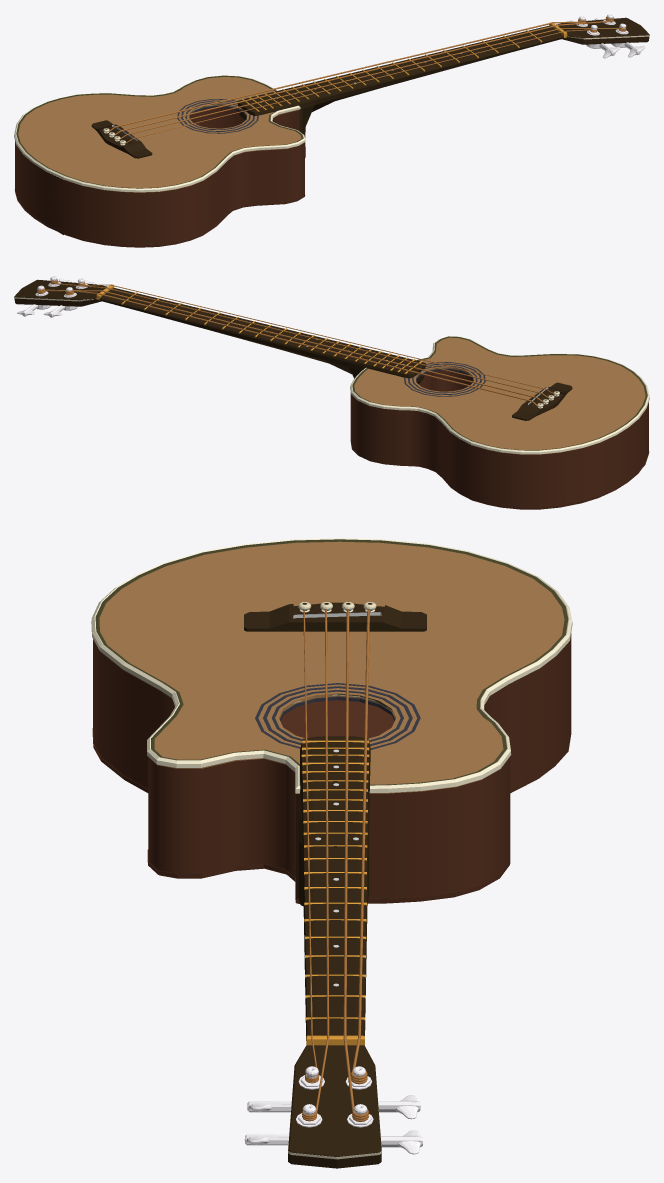
File: acousticBass.glb
The picture shows the model from 3 angles, top to bottom: view 1: azimuth 30°, elevation 25°; view 2: azimuth 150°, elevation 25°; view 3: azimuth 270°, elevation 25°; orthographic projection. The views are drawn at different scales.
Parts seen in each view (by area): view 1: Plane.002, Plane.001, Cube.002, Plane.004, Cube.003, Plane.006, Cylinder.011, Cylinder, Cube.005, Plane.003, Cylinder.026, Cylinder.003 (+3 smaller); view 2: Plane.002, Plane.001, Cube.002, Plane.004, Cube.003, Plane.006, Cylinder.011, Cylinder, Cube.005, Cylinder.026, Cylinder.003, Plane.003 (+3 smaller); view 3: Plane.002, Plane.001, Cube.002, Cube.003, Plane.004, Plane.003, Cube.005, Plane.006, Cylinder.003, Cylinder.004, Cylinder.011, Cylinder (+4 smaller).
Part boxes in pixels (x1,y1,x2,y2): Plane.002: (18,77,302,192); Plane.001: (15,107,304,245); Cube.002: (237,25,564,157); Plane.004: (14,75,305,192); Cube.003: (556,17,649,44); Plane.006: (16,75,303,188); Cylinder.011: (114,21,611,135); Cylinder: (109,21,583,131); Cube.005: (91,120,152,158); Plane.003: (14,189,305,247); Cylinder.026: (120,28,618,139); Cylinder.003: (177,99,258,133); Plane.002: (354,337,645,454); Plane.001: (350,370,648,507); Cube.002: (98,288,425,384); Plane.004: (350,336,649,454); Cube.003: (14,279,107,306); Plane.006: (352,336,647,450); Cylinder.011: (45,289,543,402); Cylinder: (73,290,537,406); Cube.005: (512,382,572,420); Cylinder.026: (53,283,547,397); Cylinder.003: (403,362,485,396); Plane.003: (350,441,649,509); Plane.002: (99,541,564,793); Plane.001: (93,633,571,898); Cube.002: (298,736,370,1040); Cube.003: (288,1045,381,1168); Plane.004: (91,538,572,793); Plane.003: (92,700,571,903); Cube.005: (244,602,426,631); Plane.006: (95,539,568,785); Cylinder.003: (255,683,420,749); Cylinder.004: (301,740,369,1020); Cylinder.011: (343,610,354,1111); Cylinder: (352,610,370,1070).
Size of the model in its own units: 2.4 by 0.2504 by 0.8212.
